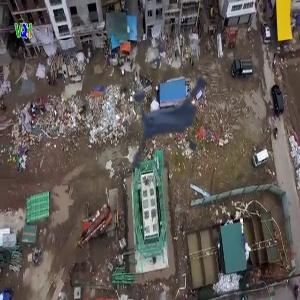drone: (111, 42, 238, 169)
